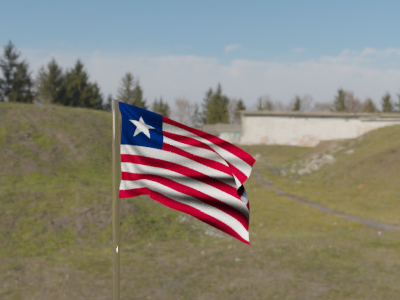Liberia flag: (116, 98, 256, 245)
